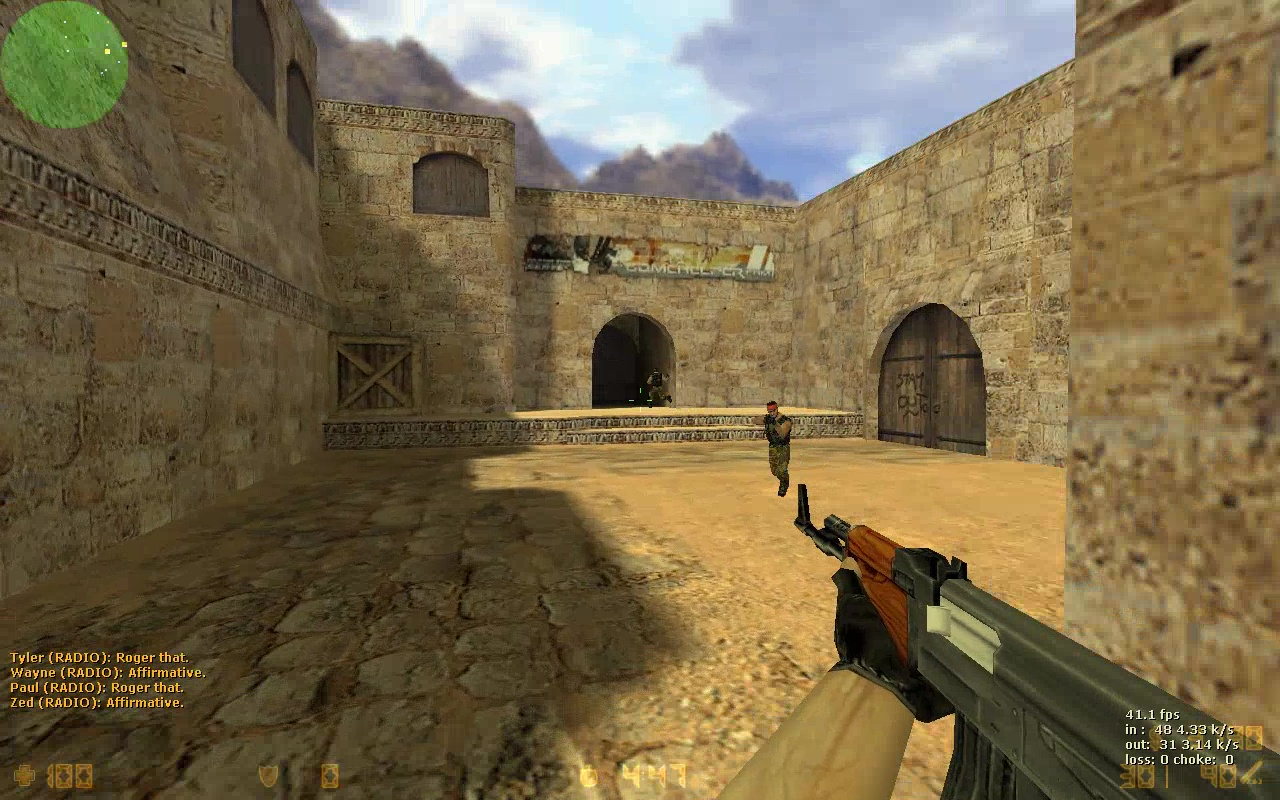terr1: (754, 399, 792, 499), (645, 369, 674, 410)
